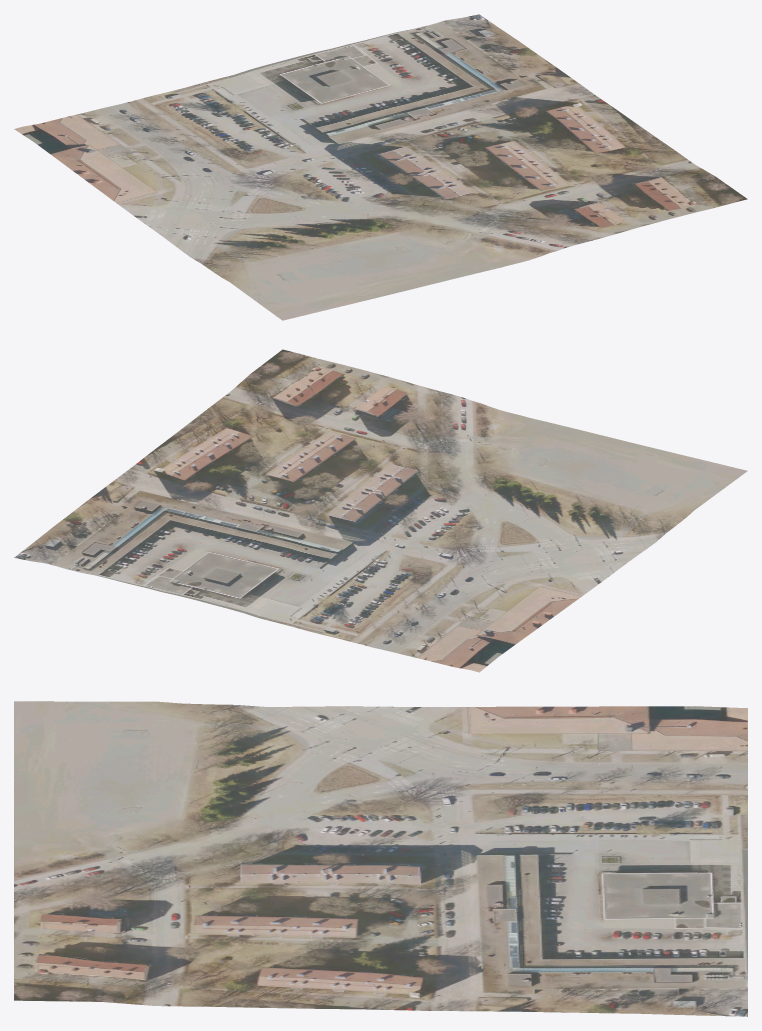
The model's file is CM_Terrain_24488615_6820818.fbx.
3 renders of one model, top to bottom at view 1: azimuth 30°, elevation 25°; view 2: azimuth 150°, elevation 25°; view 3: azimuth 270°, elevation 25°, orthographic. The views are drawn at different scales.
Parts seen in each view (by area): view 1: CM_Terrain_24488615_6820818_LOD0; view 2: CM_Terrain_24488615_6820818_LOD0; view 3: CM_Terrain_24488615_6820818_LOD0.
Part boxes in pixels (<box>): CM_Terrain_24488615_6820818_LOD0: <box>14,14,747,320</box>; CM_Terrain_24488615_6820818_LOD0: <box>14,349,747,672</box>; CM_Terrain_24488615_6820818_LOD0: <box>14,701,747,1016</box>.
Size of what is drawn, in the model's own units: 205 by 5.87 by 205.
